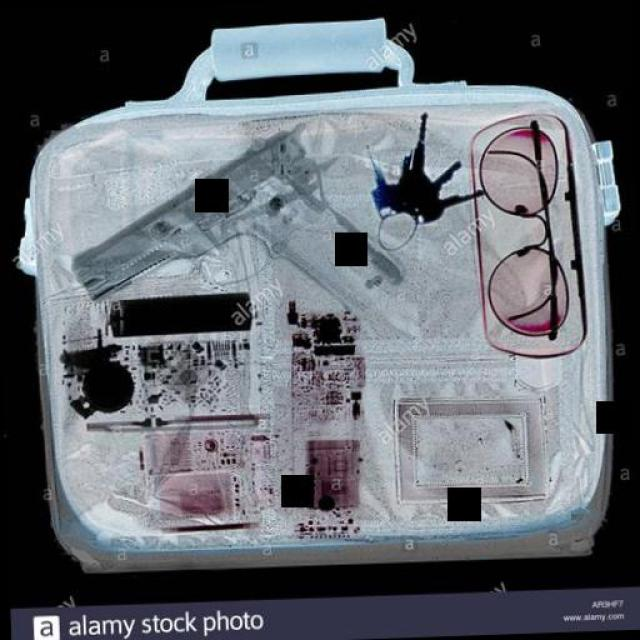gun: (62, 117, 410, 315)
